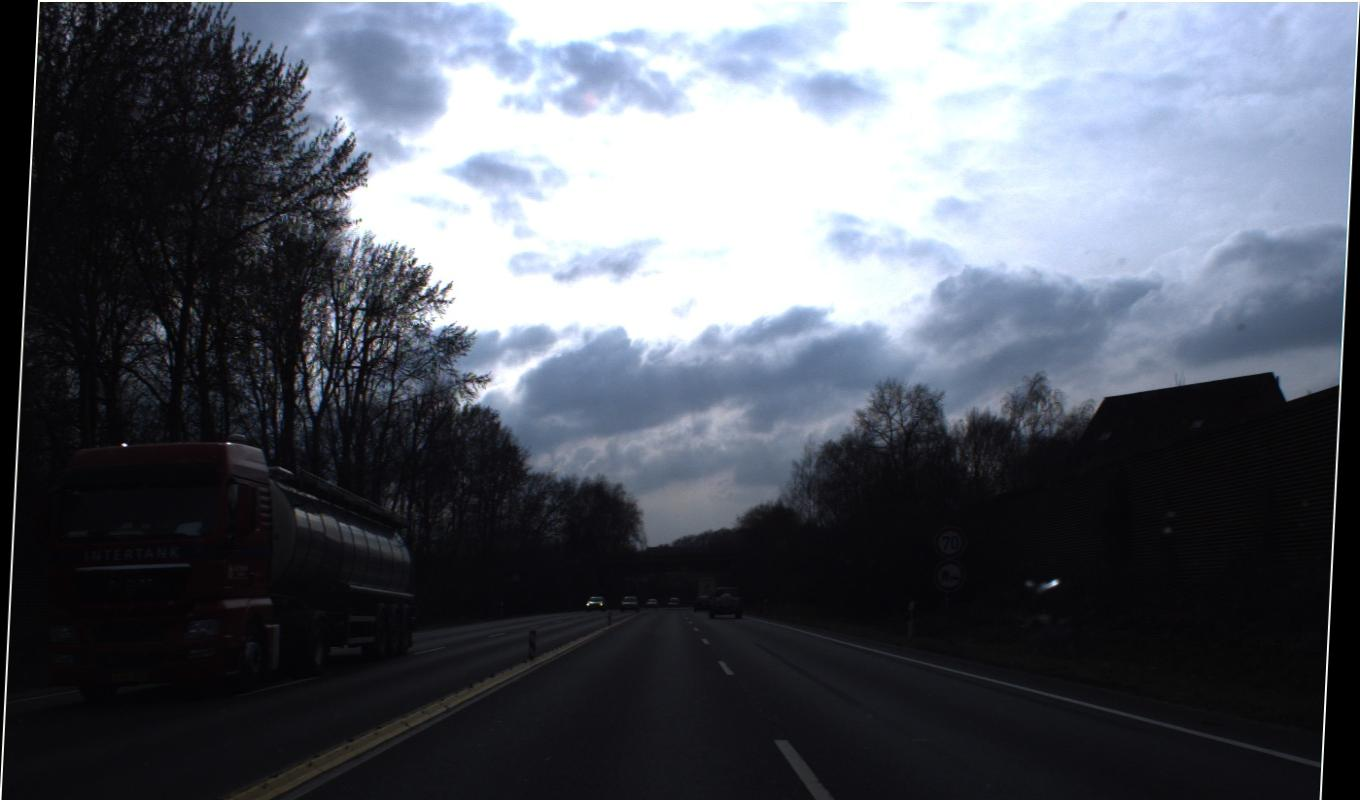no overtaking (trucks): (932, 524, 968, 593)
